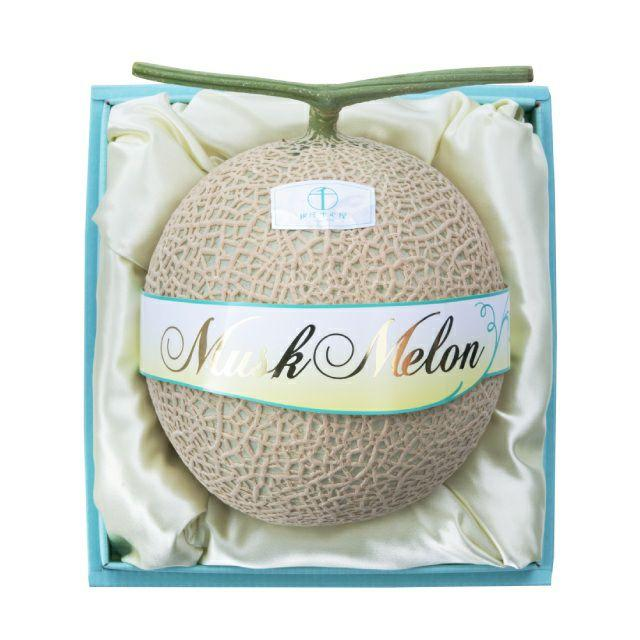melon: (133, 63, 534, 530)
